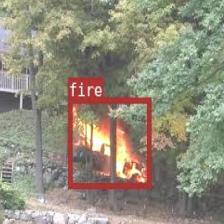fire: (68, 96, 150, 188)
